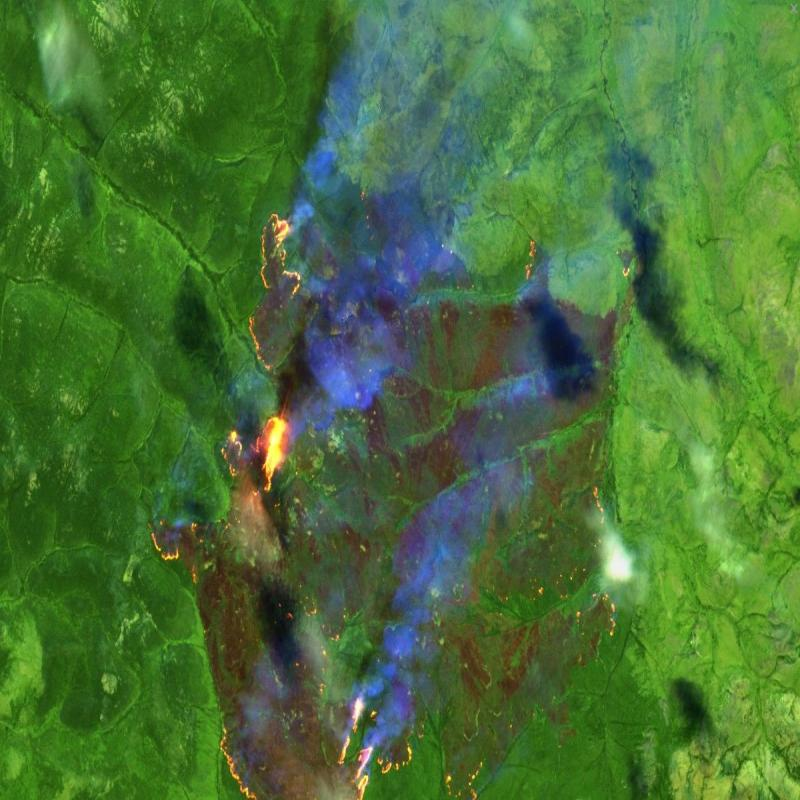fire: (147, 199, 486, 800)
